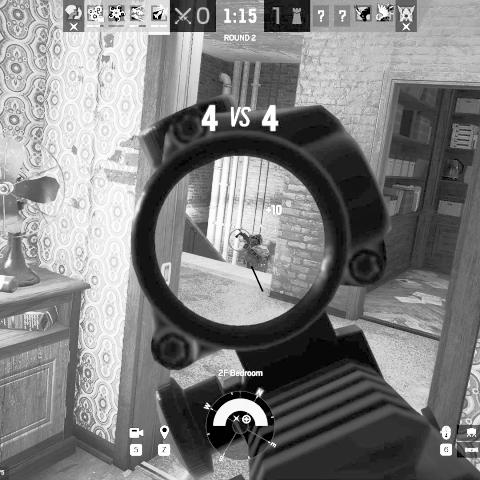Character: (235, 228, 271, 274)
Head: (249, 233, 263, 248)
